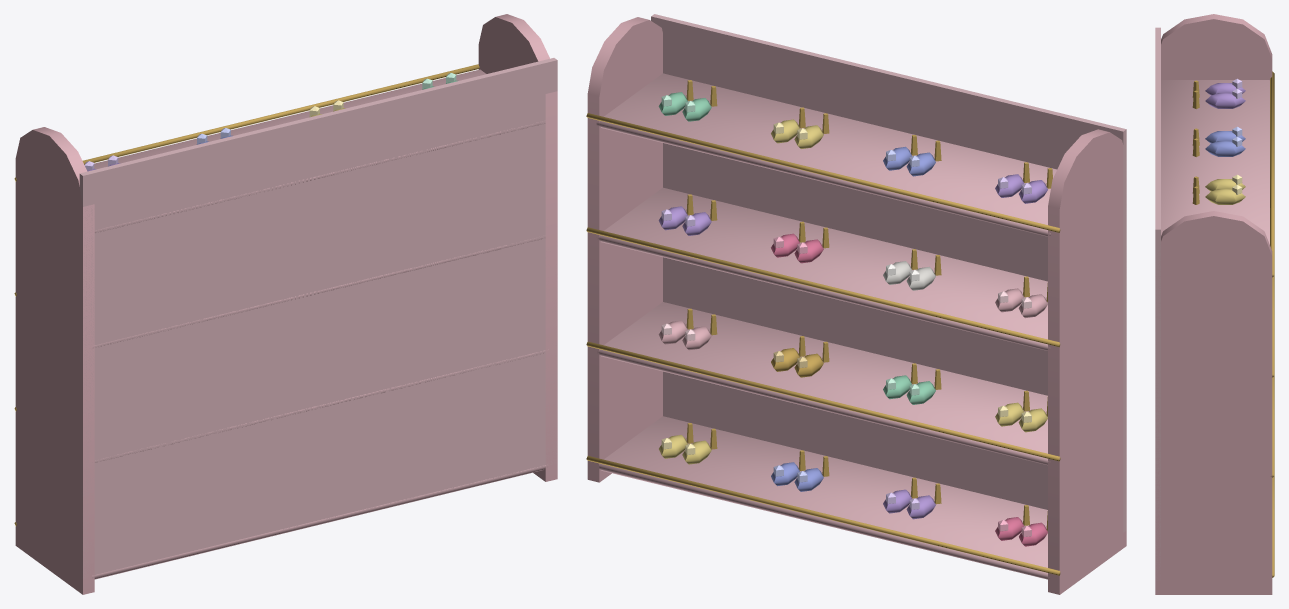
The model's file is shoe_shelf.glb.
3 views of the same model, side by side, from view 1: azimuth 30°, elevation 25°; view 2: azimuth 150°, elevation 25°; view 3: azimuth 270°, elevation 25° (orthographic). The views are drawn at different scales.
Visible parts, largest first — view 1: shoe_shelf; view 2: shoe_shelf; view 3: shoe_shelf.
Boxes of the visible parts, x1,y1,x2,y2 form: shoe_shelf: [14, 14, 557, 594]; shoe_shelf: [586, 14, 1126, 594]; shoe_shelf: [1155, 14, 1274, 594].
Size of what is drawn, in the model's own units: 1.6 by 1.4 by 0.4.
